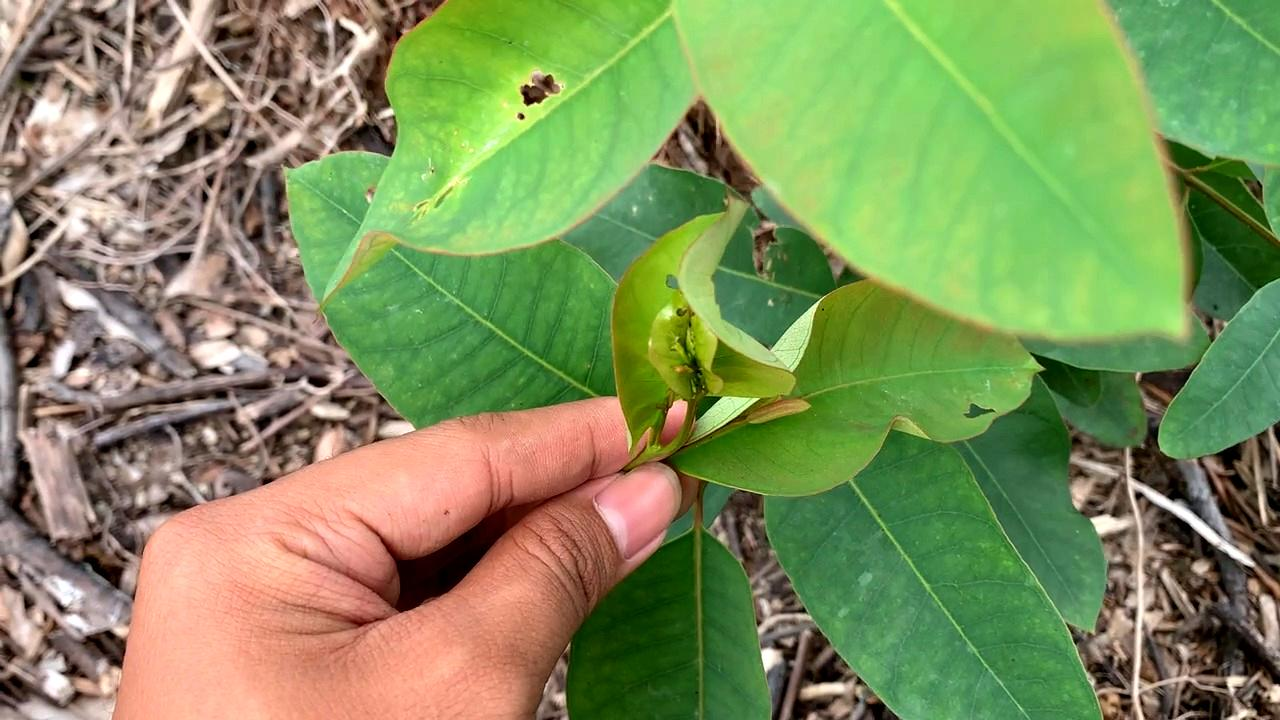Leaf Roller - Leaf: (610, 210, 797, 447)
